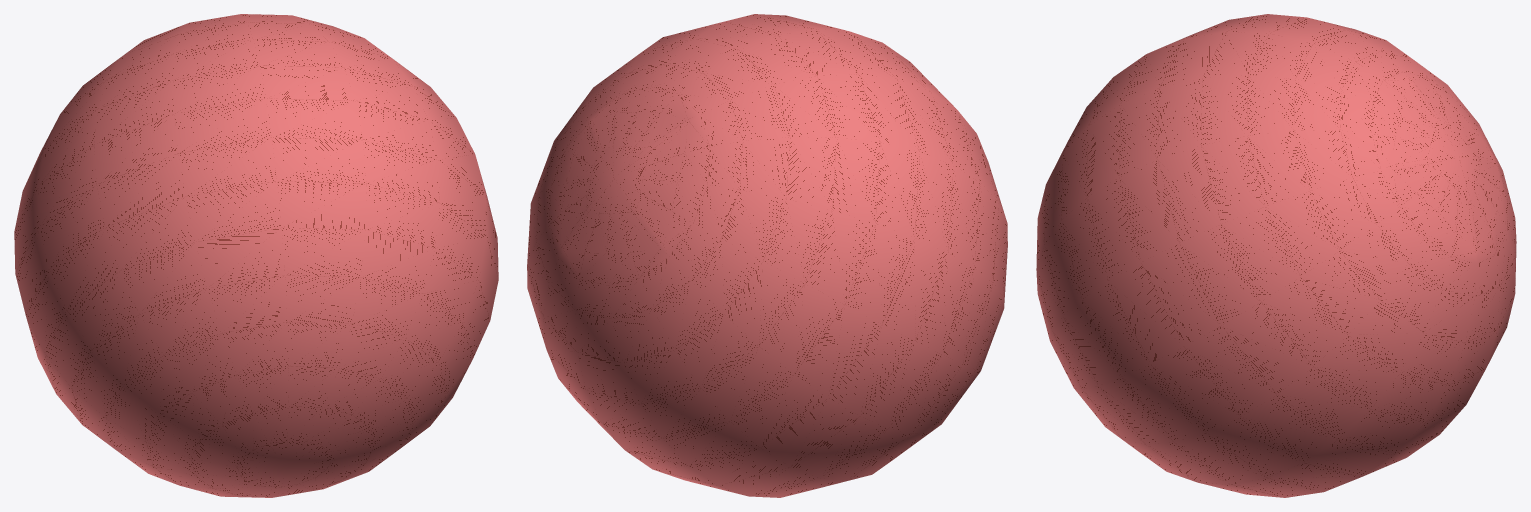
The model's file is Prop_AP30ChallengeBall.glb.
The picture shows the model from 3 angles, left to right: view 1: azimuth 30°, elevation 25°; view 2: azimuth 150°, elevation 25°; view 3: azimuth 270°, elevation 25°; orthographic projection.
Parts seen in each view (by area): view 1: Prop_AP30ChallengeBall; view 2: Prop_AP30ChallengeBall; view 3: Prop_AP30ChallengeBall.
Part boxes in pixels (bbox=[...]): Prop_AP30ChallengeBall: bbox=[14, 14, 498, 497]; Prop_AP30ChallengeBall: bbox=[527, 14, 1007, 497]; Prop_AP30ChallengeBall: bbox=[1036, 14, 1516, 497].
Size of the model in its own units: 1.95 by 1.97 by 1.95.
1 material, 1 textured.
